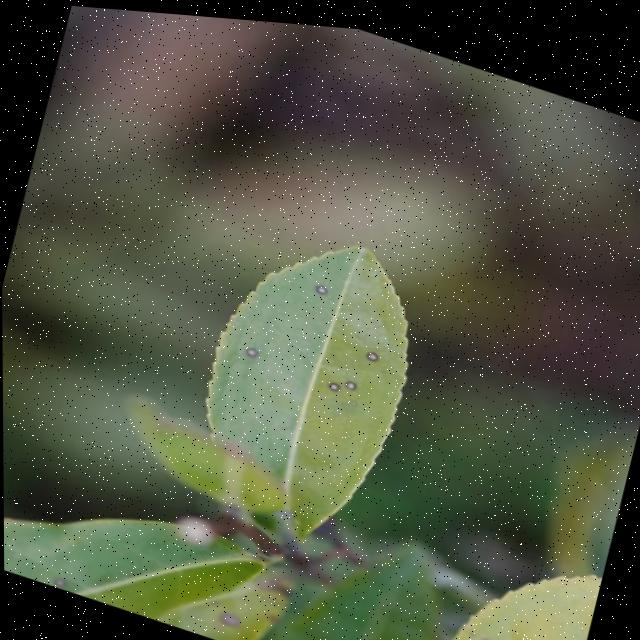Tea red scab: (312, 318, 398, 422), (232, 328, 276, 370), (303, 263, 346, 305)
